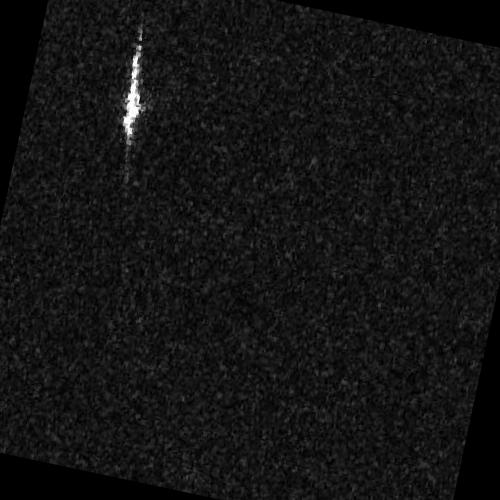ship: (120, 31, 143, 137)
